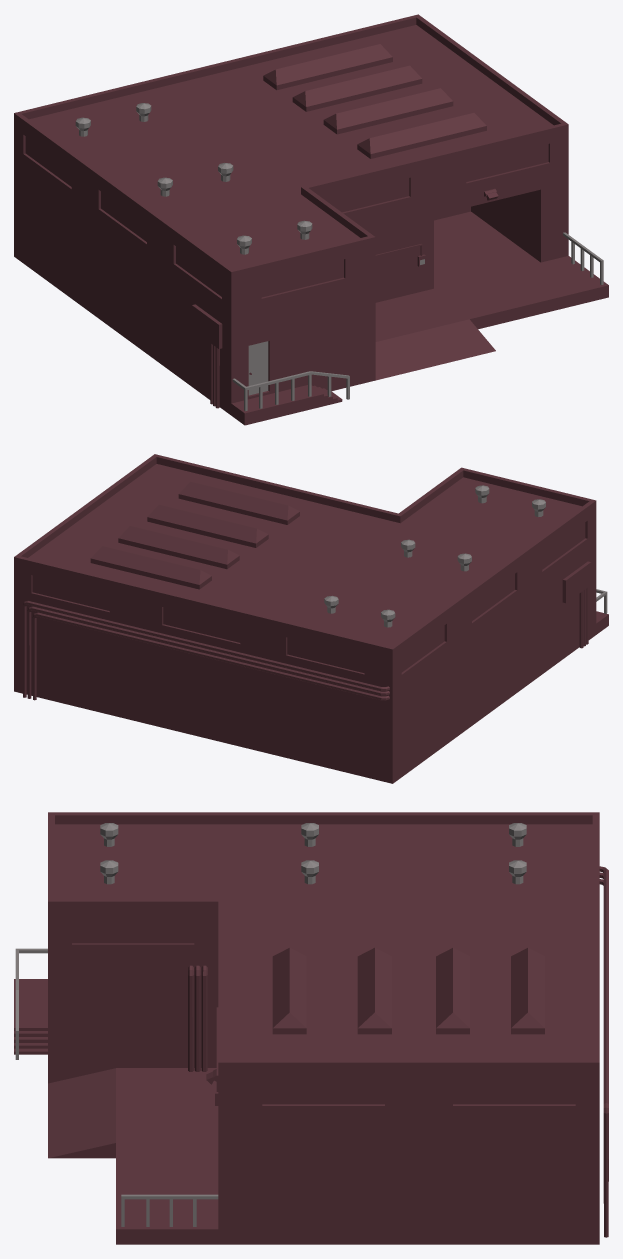
Rendered from industry-warehouse.fbx.
The picture shows the model from 3 angles, top to bottom: view 1: azimuth 30°, elevation 25°; view 2: azimuth 150°, elevation 25°; view 3: azimuth 270°, elevation 25°; orthographic projection. The views are drawn at different scales.
Parts seen in each view (by area): view 1: industry-warehouse; view 2: industry-warehouse; view 3: industry-warehouse.
Boxes of the visible parts, box(x1,y1,x2,y2) form: industry-warehouse: box(14, 14, 608, 425); industry-warehouse: box(14, 454, 608, 783); industry-warehouse: box(14, 812, 608, 1244).
Bounding box in the file's own units: 17.55 × 6.3 × 17.48.
